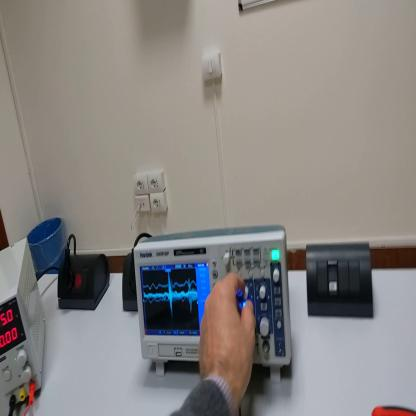hand: (198, 272, 256, 401)
oscilloscope: (135, 227, 294, 386)
pliers: (371, 403, 416, 414)
power supply: (1, 242, 49, 413)
socket: (58, 255, 112, 311), (121, 254, 139, 313)
